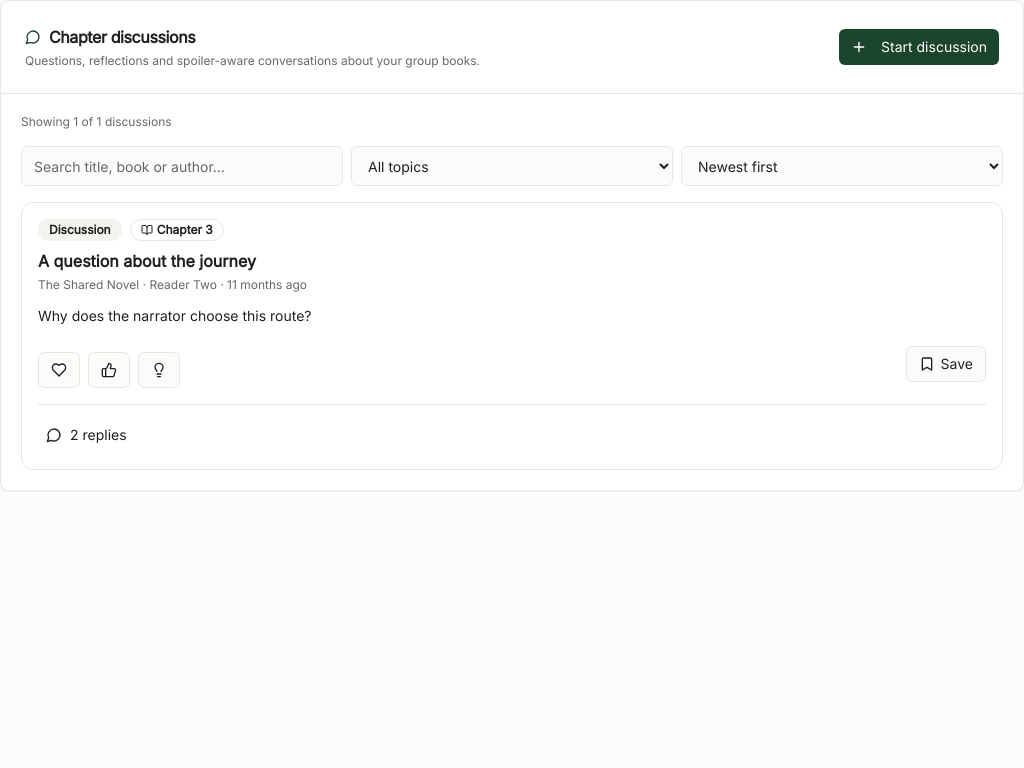
Test case: GroupReadingDiscussions › opens replies and loads comments lazily
This screenshot has width=1024, height=768.
Click the button "2 replies": (86, 435) [38,417,135,453]
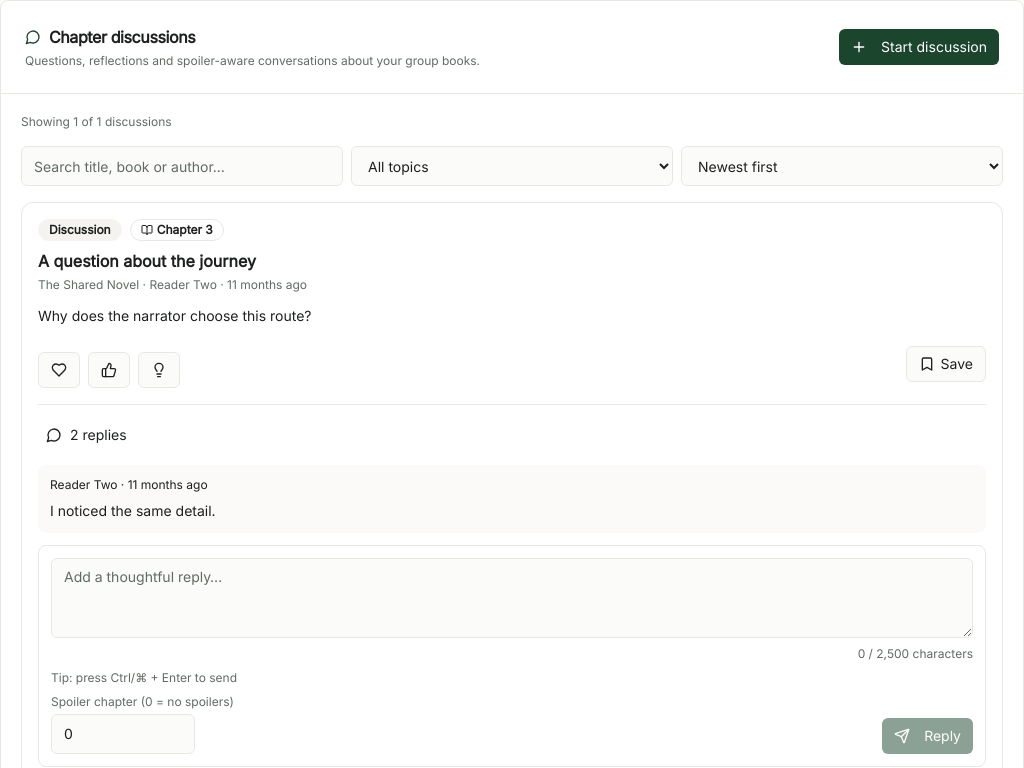
Check: the text "I noticed the same detail." is shown, box [50,502,216,519]
